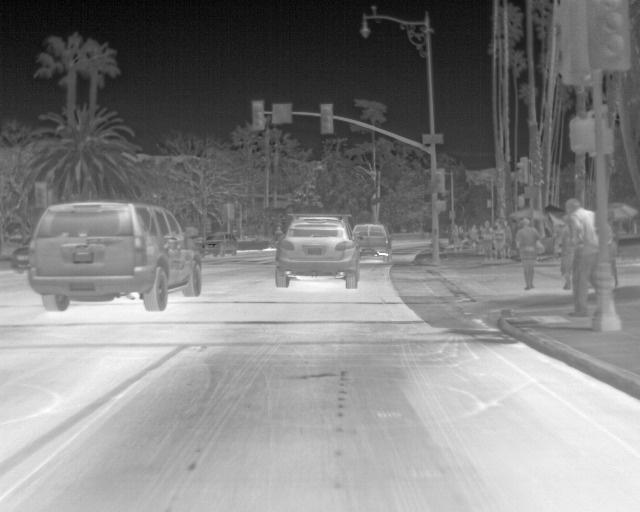bicycle: (25, 201, 204, 310), (273, 213, 359, 289), (350, 220, 393, 257), (201, 230, 238, 257), (9, 237, 33, 273)
empty: (562, 197, 597, 316), (515, 214, 544, 292), (492, 221, 509, 261), (479, 219, 494, 264)
